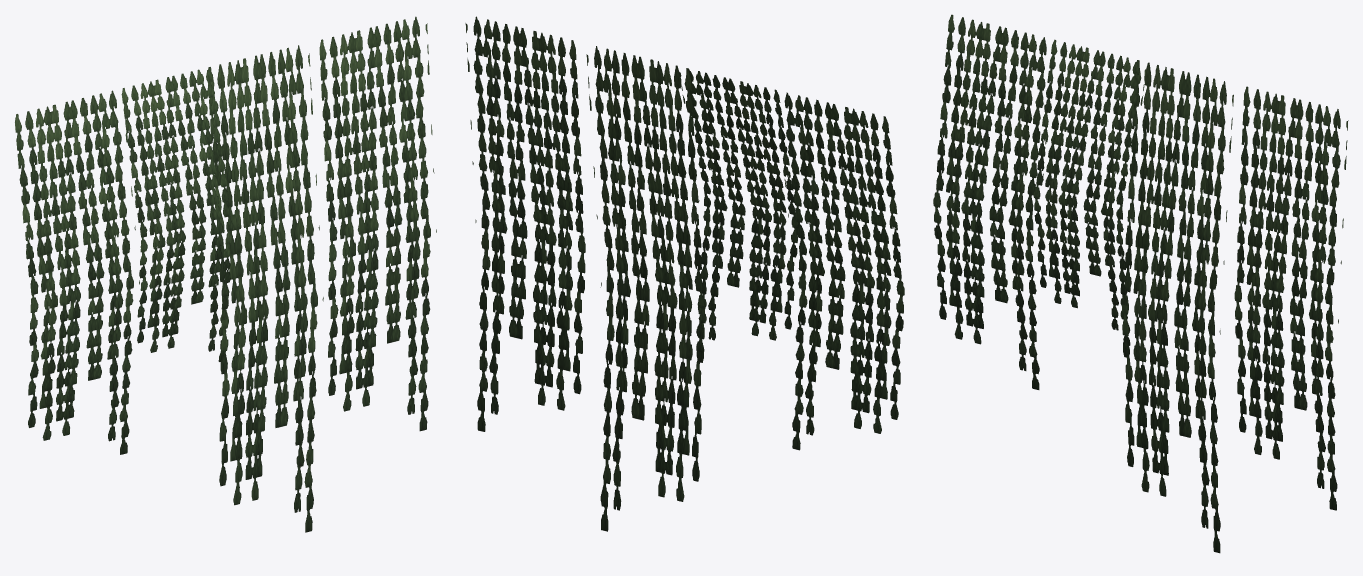
File: IvyDrape.fbx
3 renders of one model, left to right at view 1: azimuth 30°, elevation 25°; view 2: azimuth 150°, elevation 25°; view 3: azimuth 330°, elevation 25°, orthographic. The views are drawn at different scales.
Visible parts, largest first — view 1: IvyDrape; view 2: IvyDrape; view 3: IvyDrape.
Part boxes in pixels (x1=…): IvyDrape: x1=15, y1=16, x2=436, y2=532; IvyDrape: x1=465, y1=16, x2=904, y2=531; IvyDrape: x1=933, y1=14, x2=1348, y2=553.
Size of the model in its own units: 1.5 by 1.7 by 0.1254.
